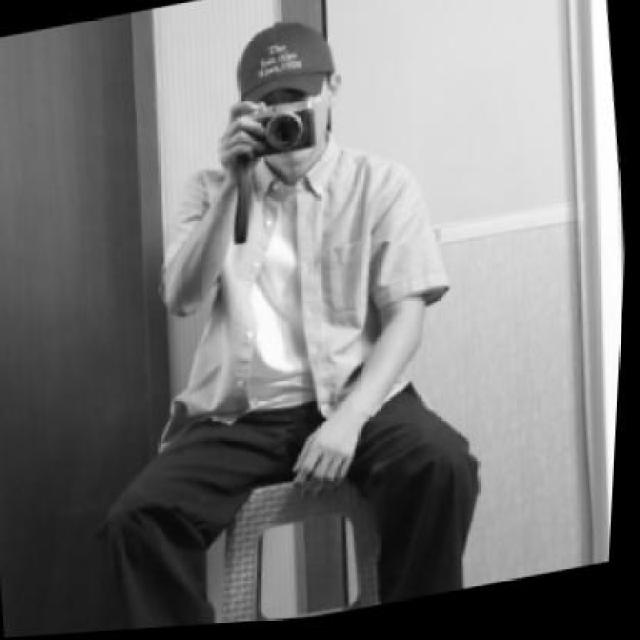hat: (228, 9, 344, 112)
